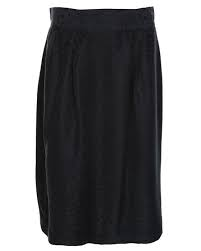S_skirt: (34, 7, 172, 251)
